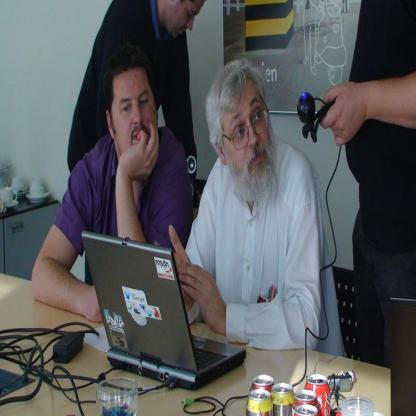board: (86, 221, 237, 394), (307, 374, 331, 416), (247, 389, 274, 416), (272, 383, 293, 416), (292, 390, 318, 408), (251, 375, 273, 393), (293, 406, 318, 416)
